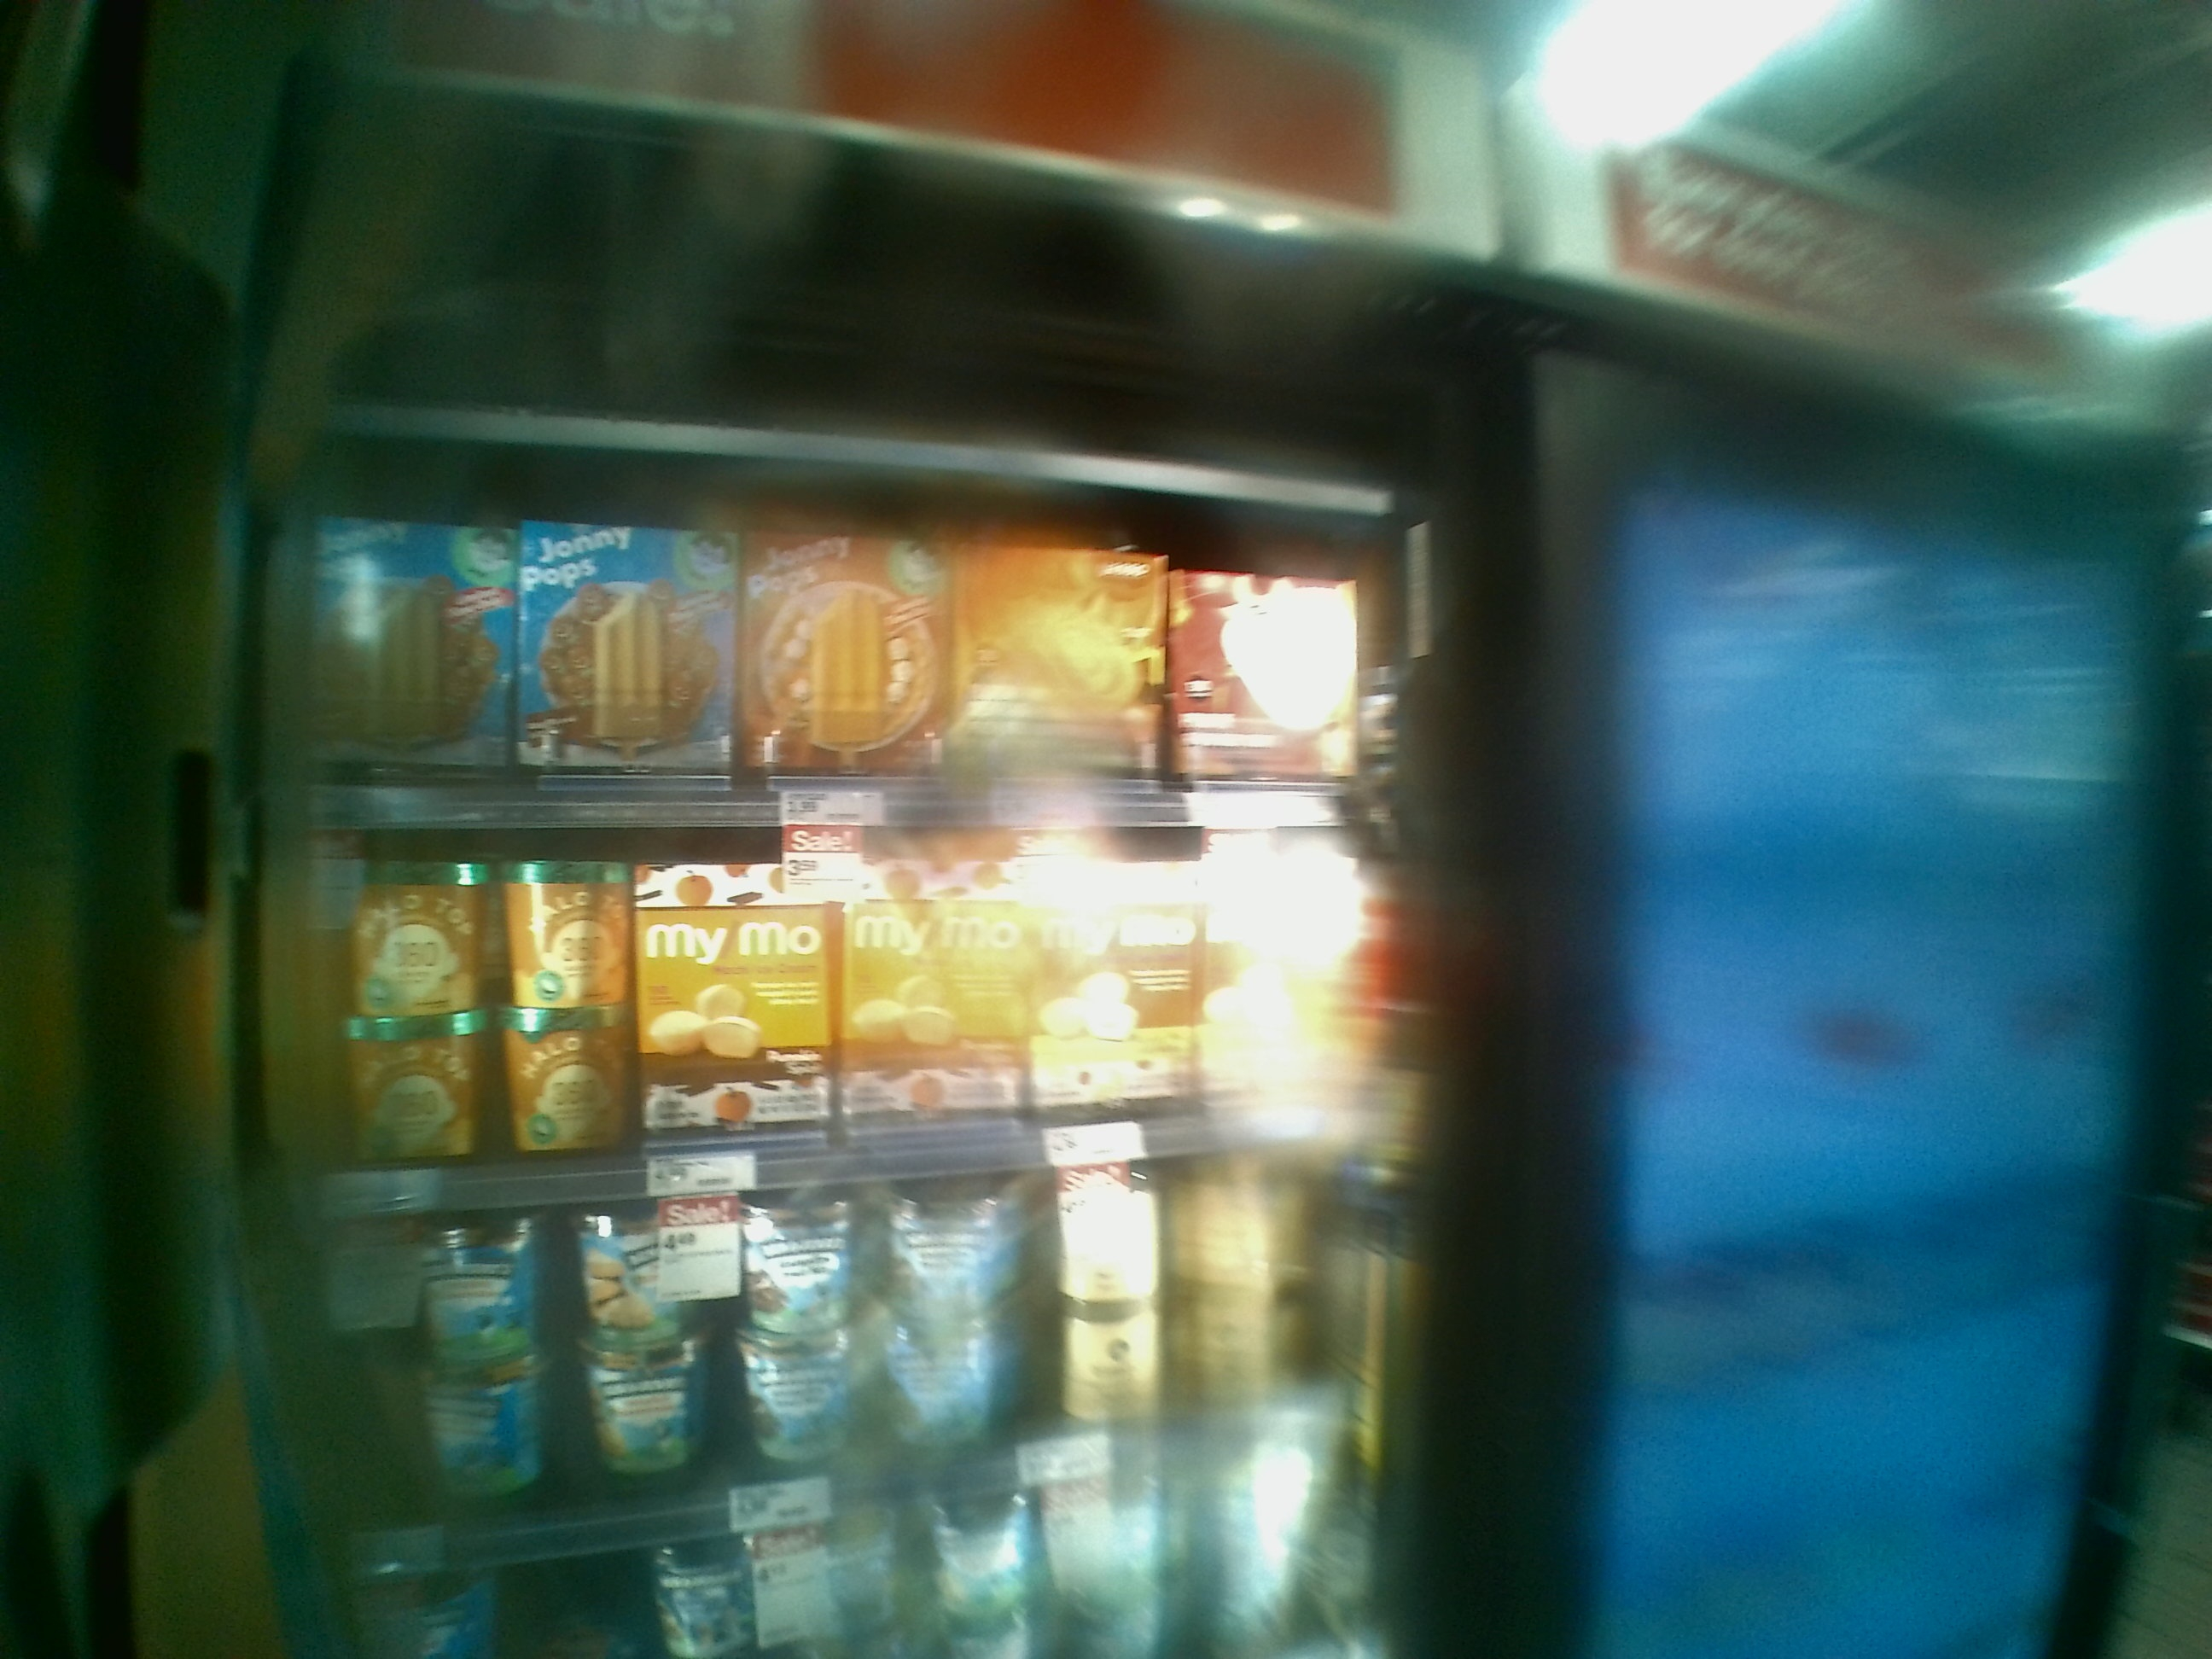shelf: (254, 416, 1423, 829), (242, 802, 1432, 1159), (247, 1180, 1437, 1495)
